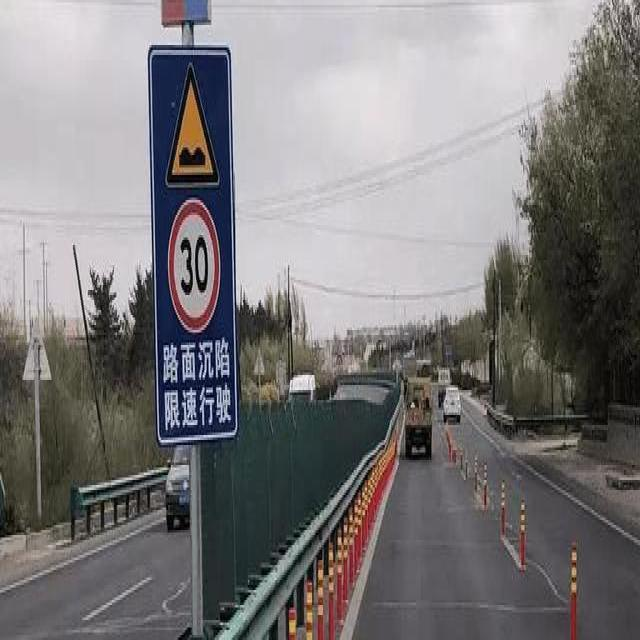speed limit 30: (167, 199, 221, 335)
